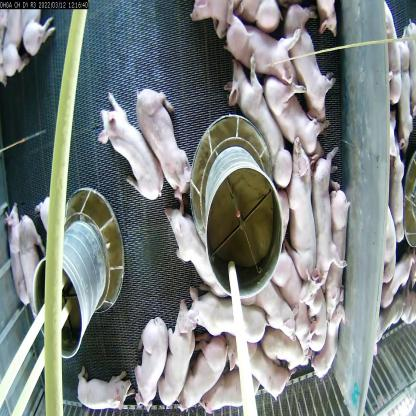Pig: (94, 100, 168, 218), (225, 59, 292, 182), (163, 196, 236, 307), (134, 90, 200, 195), (286, 146, 332, 282), (186, 279, 272, 349), (223, 5, 305, 77), (285, 1, 330, 108), (157, 304, 201, 402), (64, 363, 133, 416), (8, 202, 41, 306), (279, 236, 319, 318), (330, 182, 356, 304), (181, 344, 224, 415), (202, 365, 261, 416), (254, 255, 296, 321), (23, 212, 53, 304), (139, 319, 177, 390), (250, 344, 292, 402), (264, 333, 300, 380)
